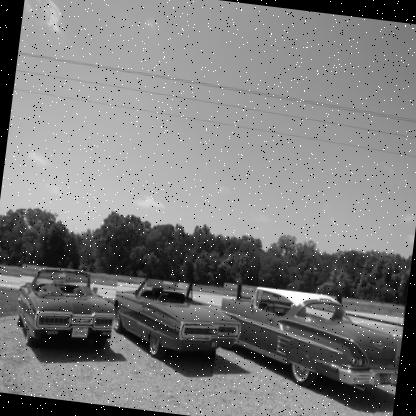Car: (211, 282, 406, 404), (108, 274, 254, 370), (13, 263, 124, 358)
